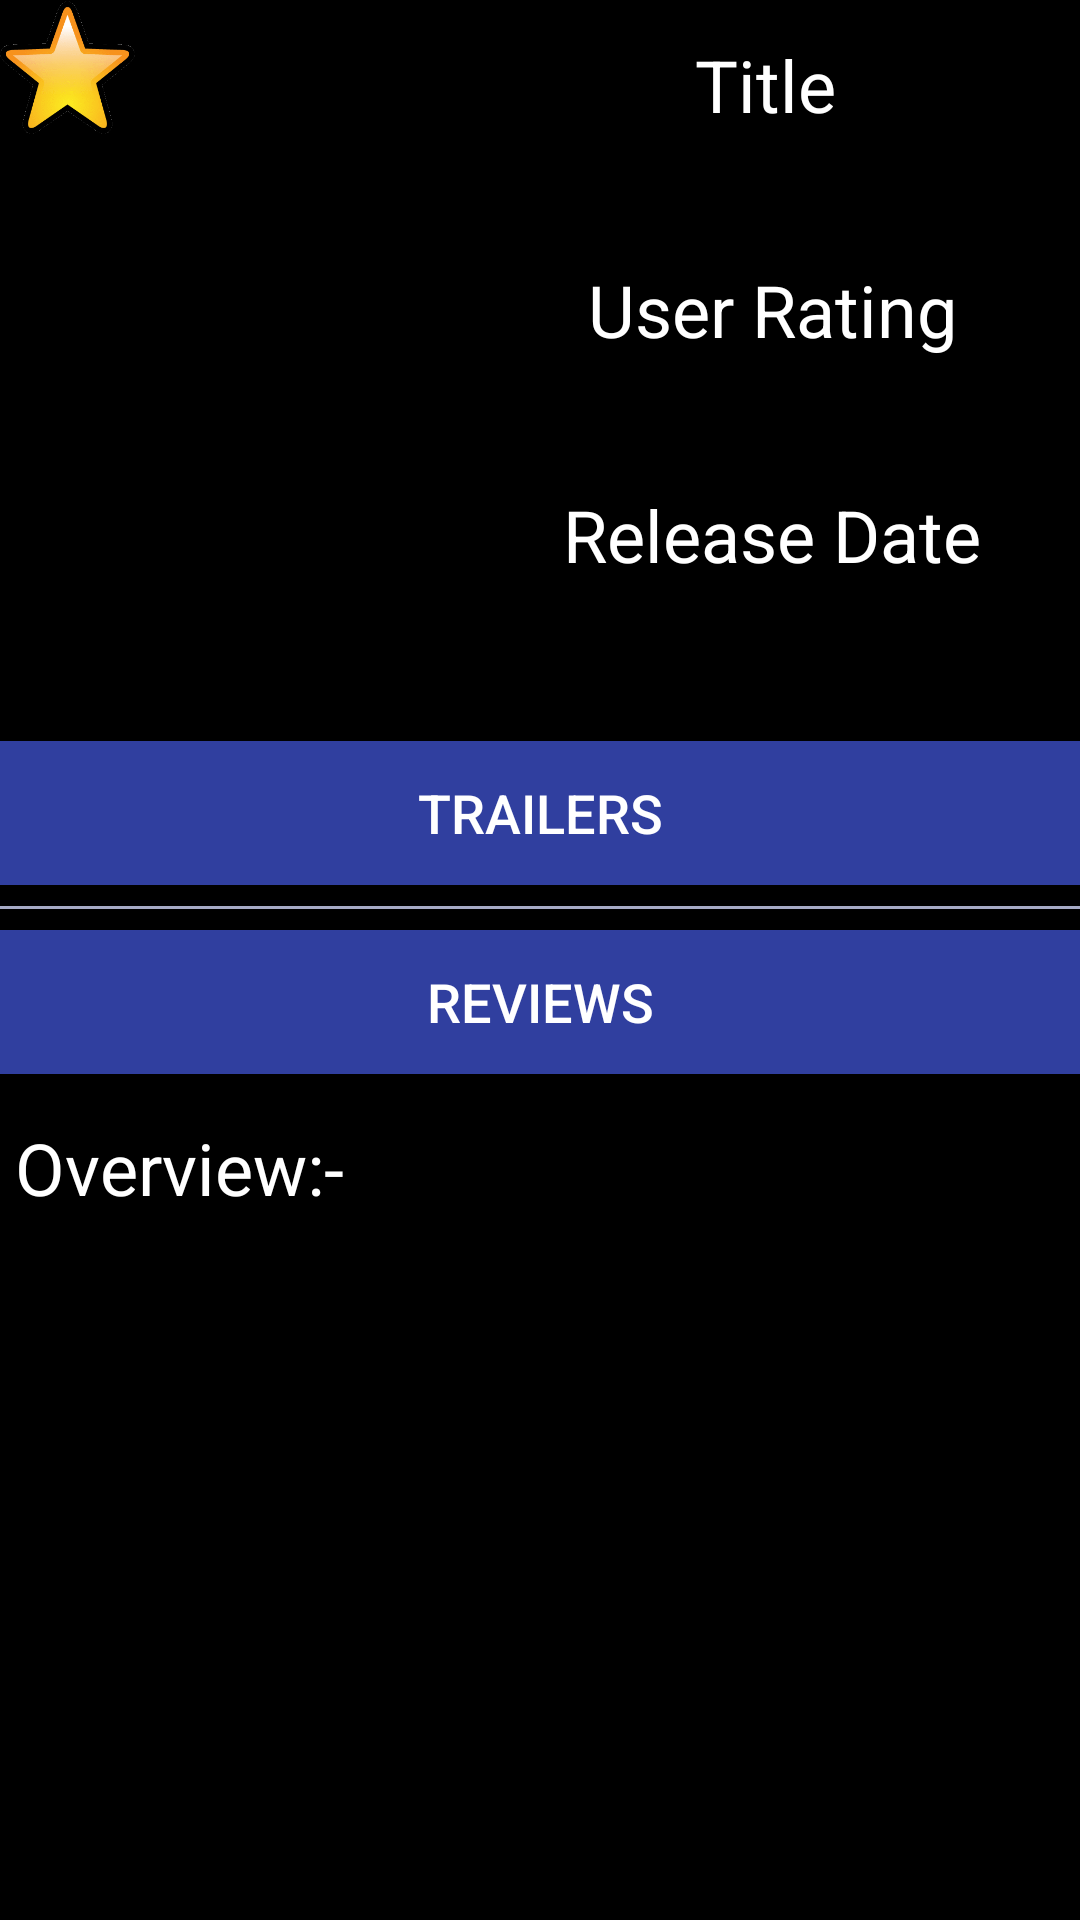

Icon bounding boxes for this 1080x1920 phone screenshot, format bbox=[x1, y1, x2, y2]:
star: bbox=[1, 3, 134, 134]
